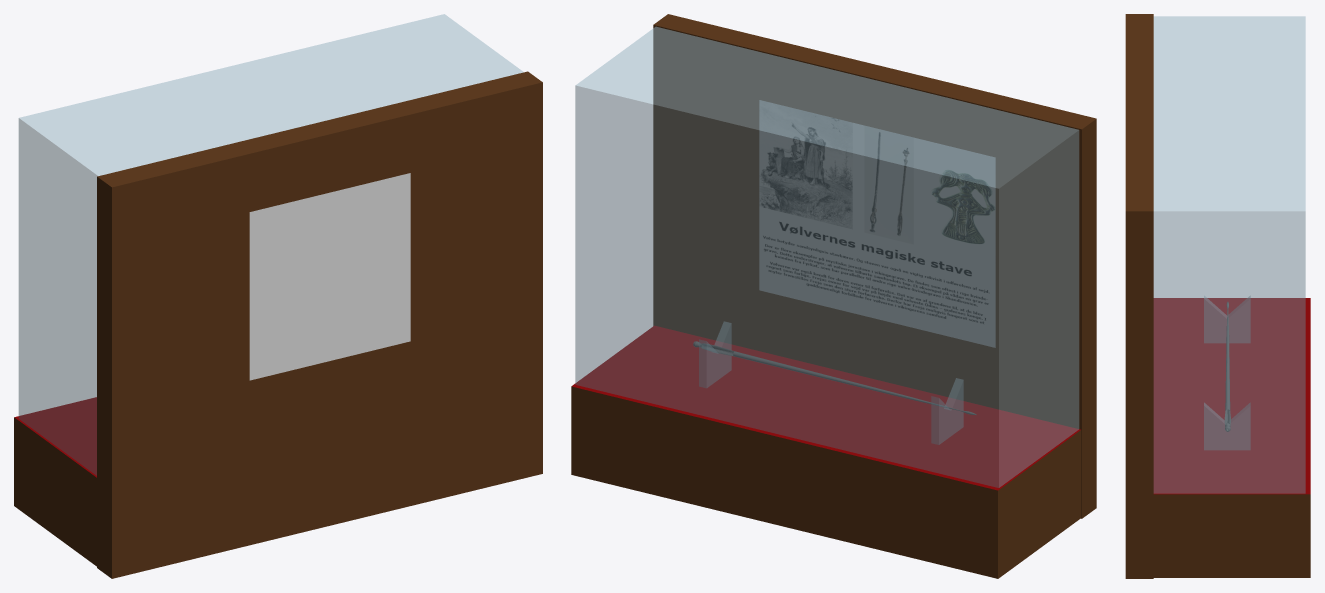
File: montre_volver.gltf
3 views of the same model, side by side, from view 1: azimuth 30°, elevation 25°; view 2: azimuth 150°, elevation 25°; view 3: azimuth 270°, elevation 25° (orthographic). The views are drawn at different scales.
Parts seen in each view (by area): view 1: Cube.001, glass.001, snap, Cube.006; view 2: glass.001, Cube.001, Cube.006, Plane, glass, glass.002, Cylinder; view 3: glass.001, Cube.006, Cube.001, glass.002, glass, Cylinder.
Part boxes in pixels (left/top/right/bottom): Cube.001: left=97, top=71, right=542, bottom=578; glass.001: left=18, top=14, right=523, bottom=475; snap: left=249, top=173, right=410, bottom=380; Cube.006: left=14, top=397, right=96, bottom=566; glass.001: left=575, top=26, right=1079, bottom=487; Cube.001: left=653, top=14, right=1096, bottom=518; Cube.006: left=571, top=325, right=1081, bottom=578; Plane: left=759, top=100, right=995, bottom=347; glass: left=931, top=378, right=963, bottom=444; glass.002: left=699, top=322, right=731, bottom=387; Cylinder: left=693, top=341, right=976, bottom=414; glass.001: left=1153, top=16, right=1305, bottom=493; Cube.006: left=1153, top=298, right=1310, bottom=577; Cube.001: left=1125, top=14, right=1153, bottom=578; glass.002: left=1204, top=403, right=1250, bottom=449; glass: left=1204, top=296, right=1250, bottom=342; Cylinder: left=1224, top=302, right=1230, bottom=431.
Size of the model in its own units: 5.35 by 4.65 by 2.13.
5 materials, 1 textured.
